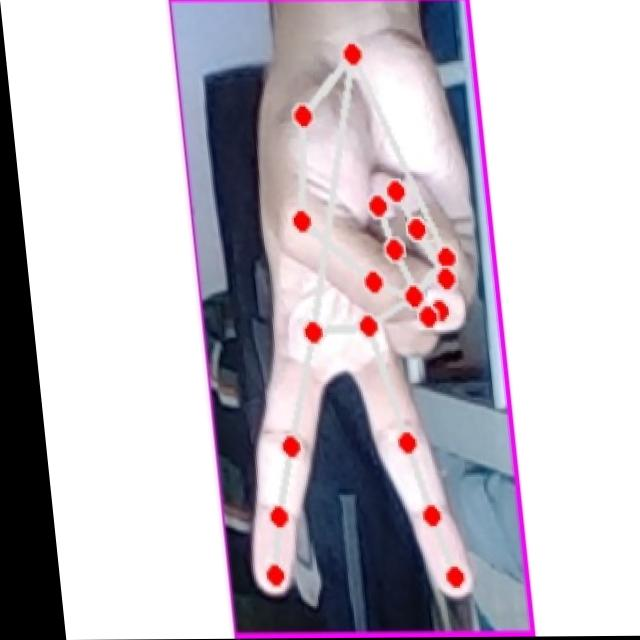V: (192, 23, 502, 607)
